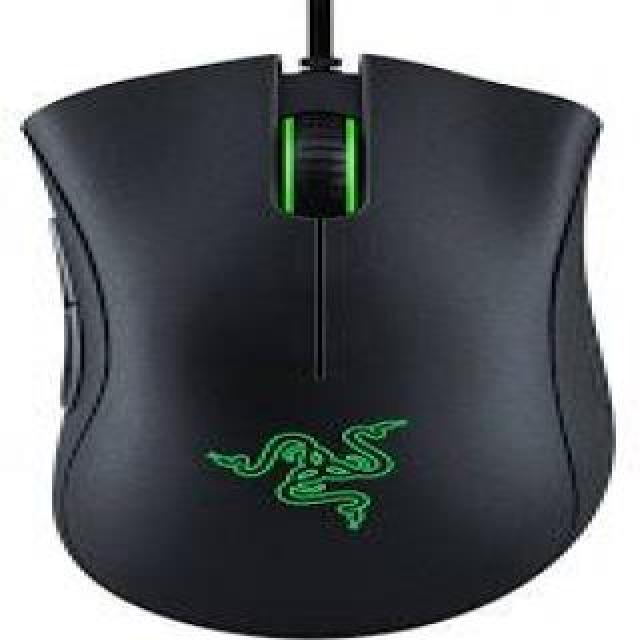mouse: (30, 22, 605, 628)
